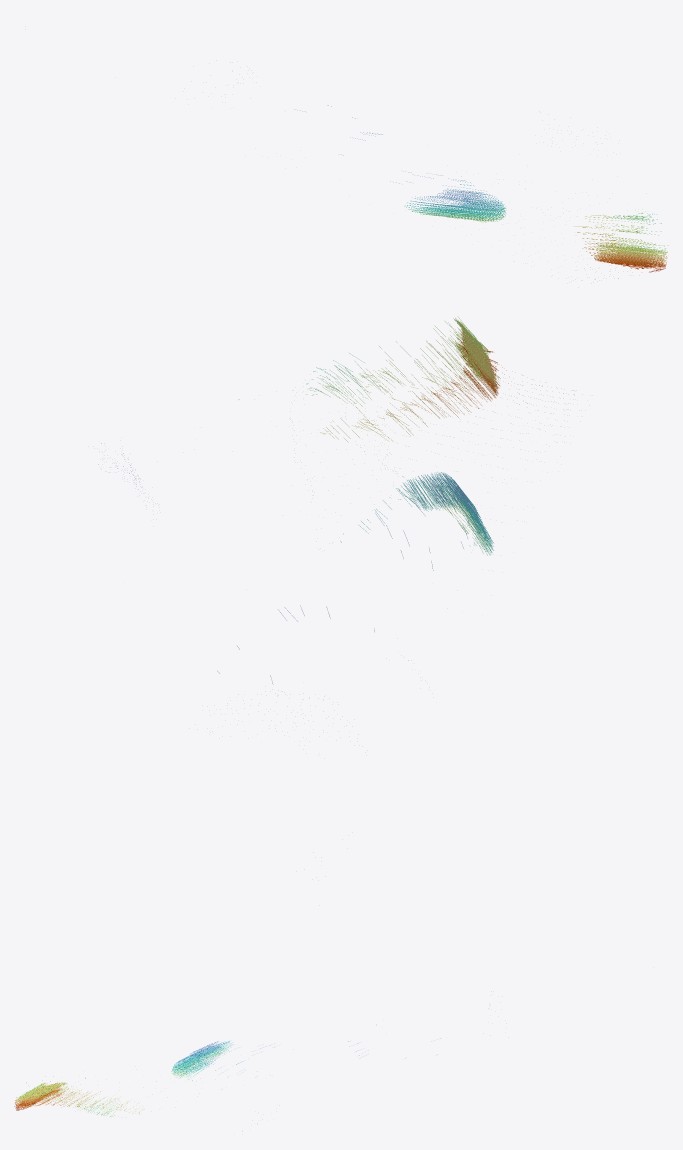
Rendered from forward.glb.
3 renders of one model, top to bottom at view 1: azimuth 30°, elevation 25°; view 2: azimuth 150°, elevation 25°; view 3: azimuth 270°, elevation 25°, orthographic. The views are drawn at different scales.
Parts seen in each view (by area): view 1: flow_lines; view 2: flow_lines; view 3: flow_lines.
Boxes of the visible parts, bbox=[...] form: flow_lines: bbox=[294, 105, 668, 278]; flow_lines: bbox=[98, 317, 563, 684]; flow_lines: bbox=[14, 1041, 437, 1116].
Size of the model in its own units: 2.94 by 0.468 by 5.07.
